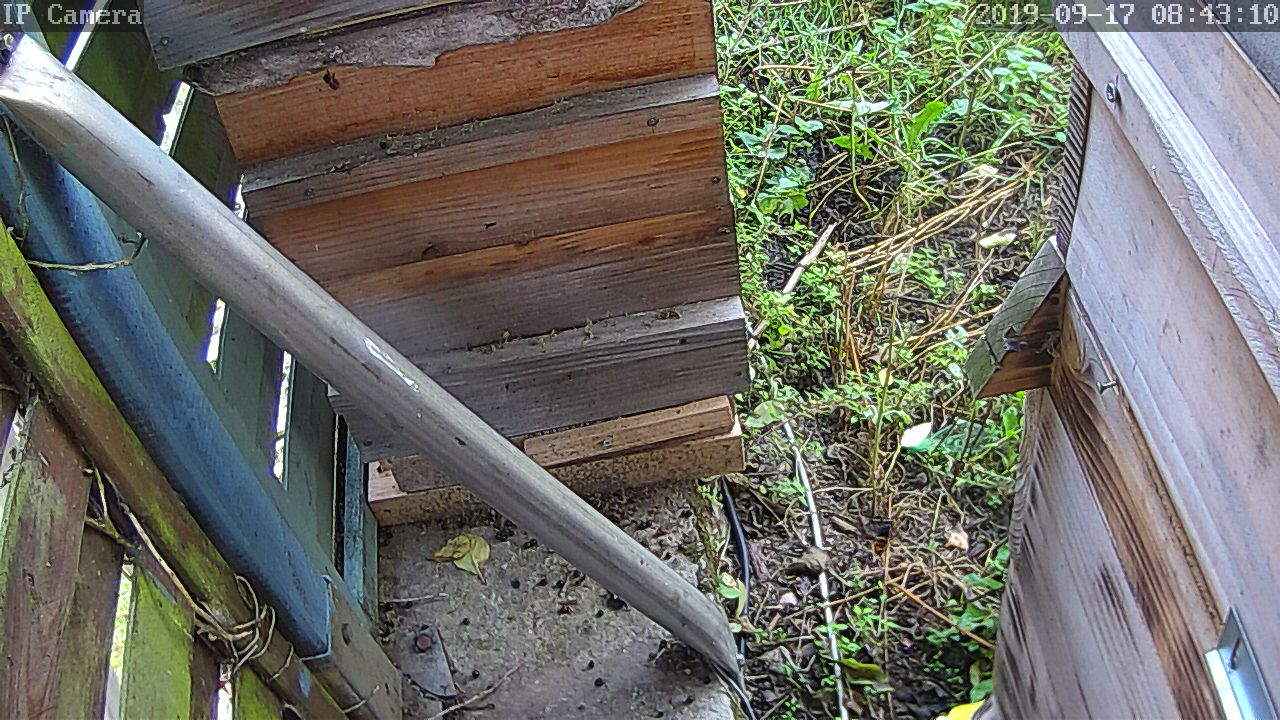hornet: (865, 510, 898, 556)
